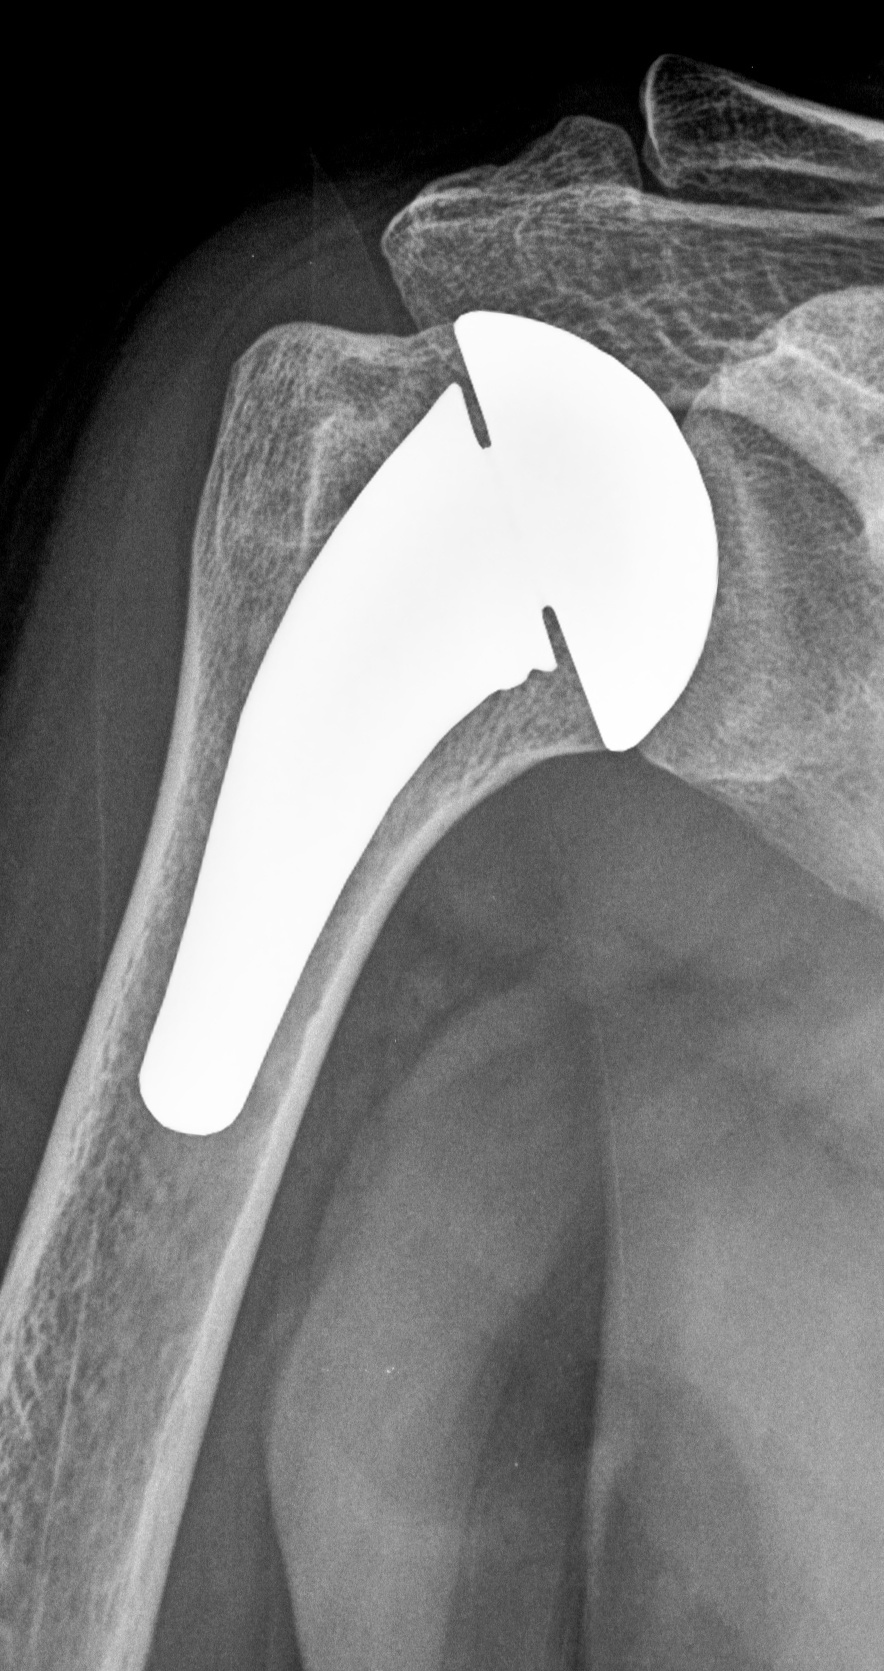Shoulder - AequalisAscendFlex - Tornier: (433, 281, 745, 767)
